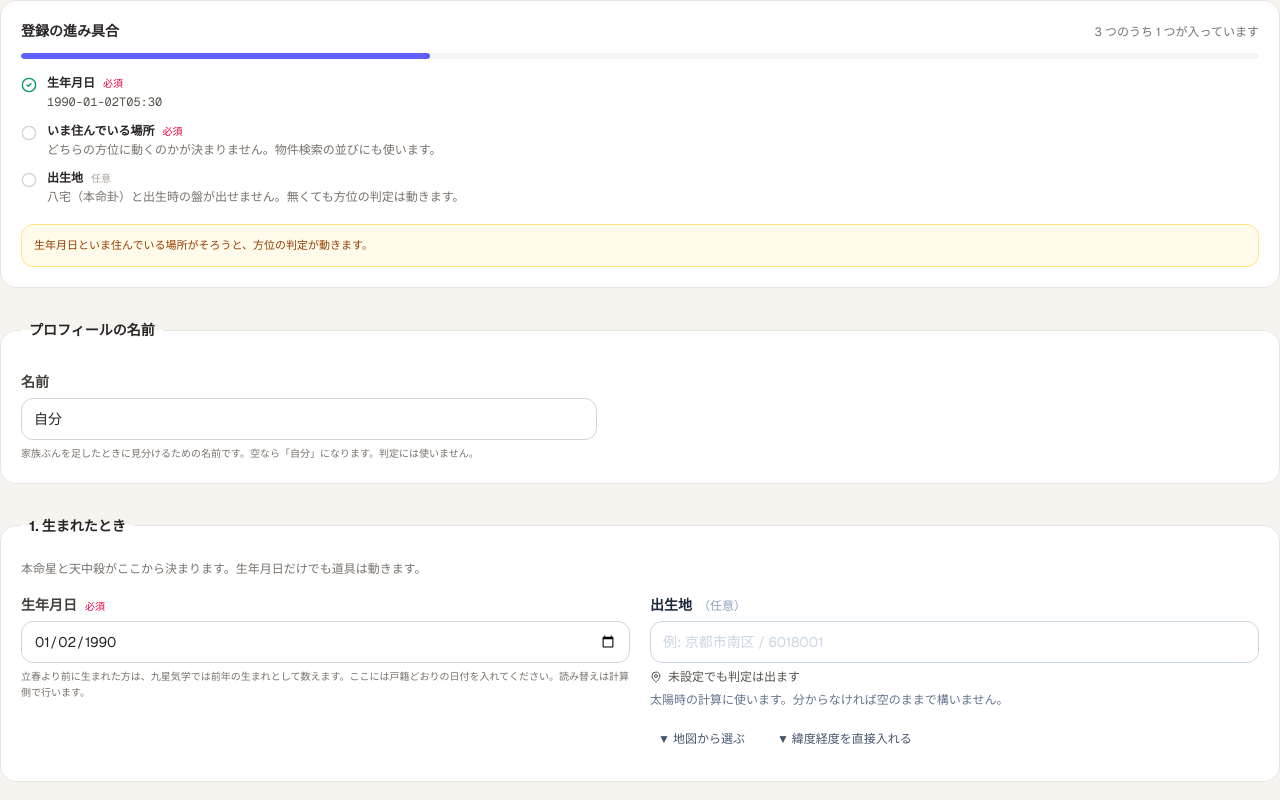
Scenario: /profile の生年月日欄 › 日付を直しても、保存されている時刻を落とさない
This screenshot has width=1280, height=800.
Type "1990-01-03" into the date field labelled "生年月日". click: point(326, 642)
box: [21,621,630,663]
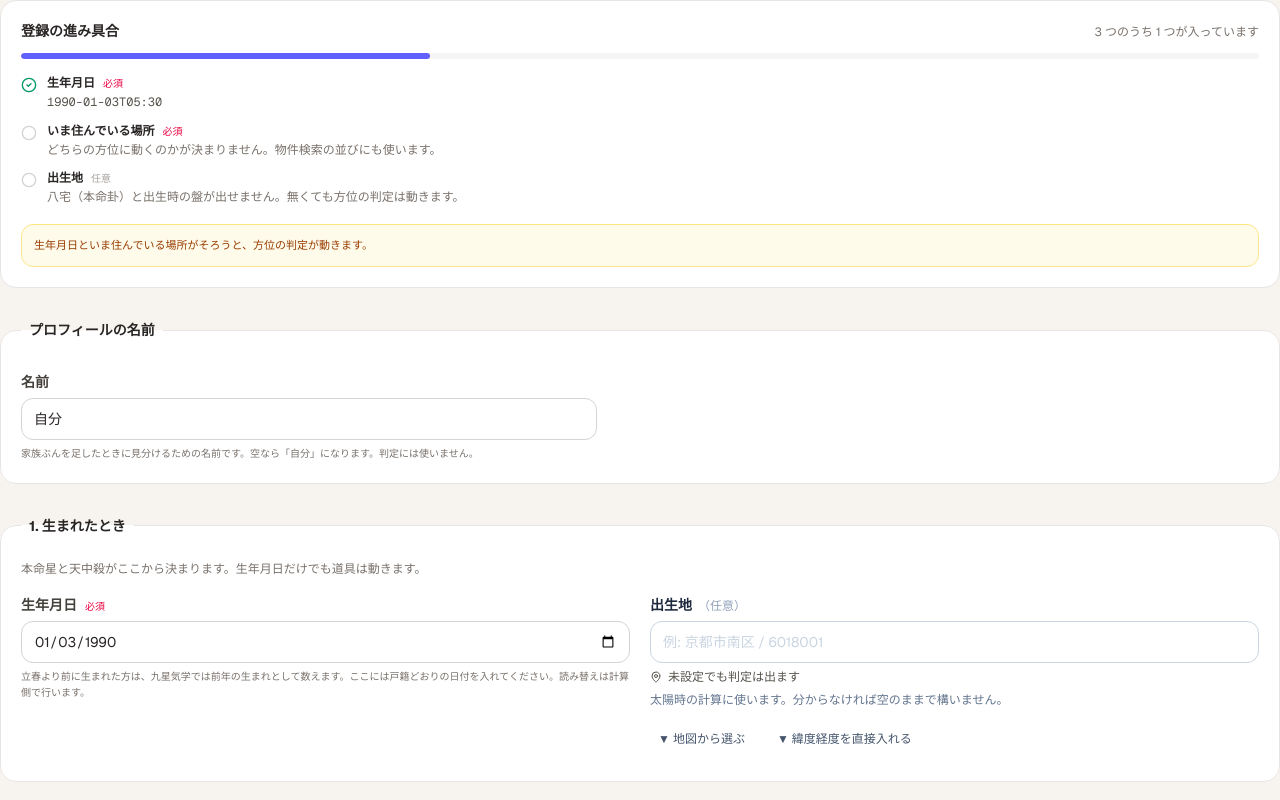
Expected: the text "1990-01-03T05:30" is shown, [47,93,162,112]
